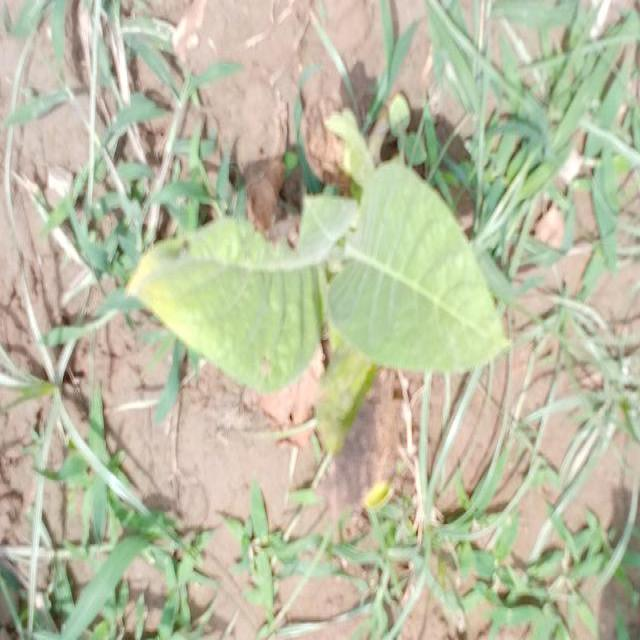crop: (134, 138, 510, 392)
